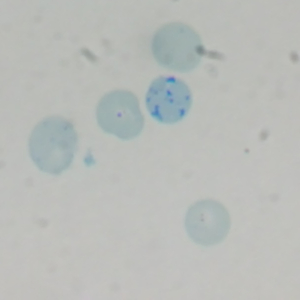aggregate reticulocyte: (144, 74, 194, 125)
erythrocyte: (95, 88, 145, 142), (182, 198, 232, 248)
punctate reticulocyte: (27, 116, 79, 176), (150, 21, 204, 75)
